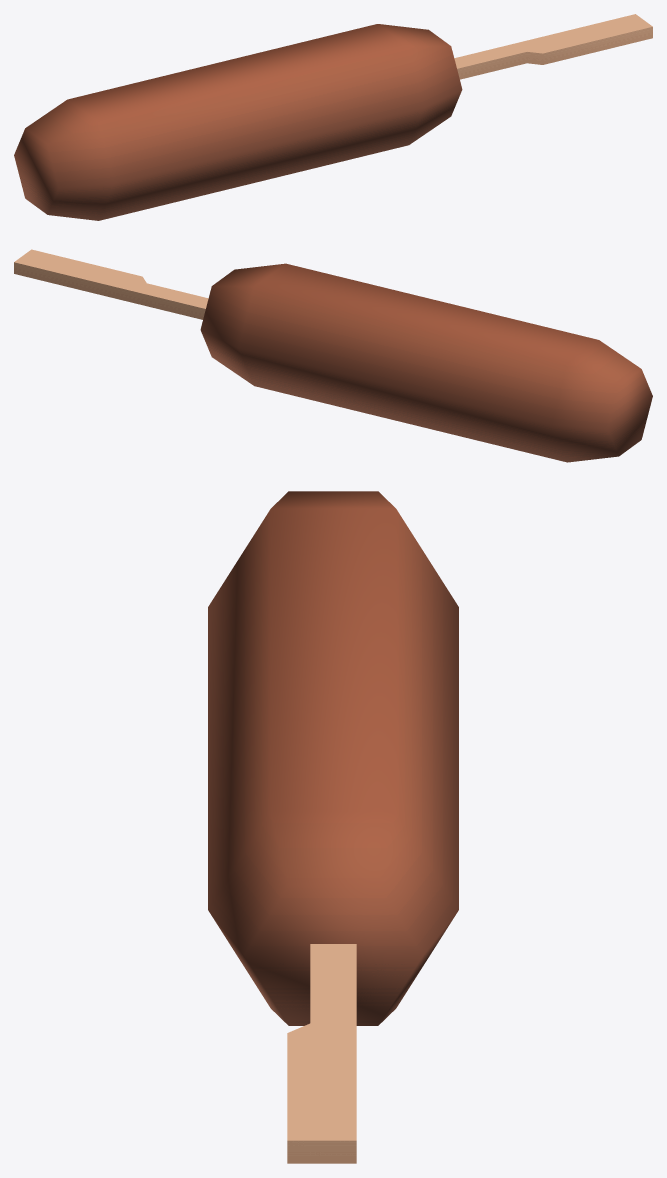
File: corn-dog.glb
The picture shows the model from 3 angles, top to bottom: view 1: azimuth 30°, elevation 25°; view 2: azimuth 150°, elevation 25°; view 3: azimuth 270°, elevation 25°; orthographic projection. The views are drawn at different scales.
Parts seen in each view (by area): view 1: dog, corn-dog; view 2: dog, corn-dog; view 3: dog, corn-dog.
Boxes of the visible parts, x1,y1,x2,y2 form: dog: [14, 24, 462, 220]; corn-dog: [454, 14, 652, 79]; dog: [200, 263, 652, 462]; corn-dog: [14, 249, 208, 319]; dog: [208, 491, 458, 1025]; corn-dog: [287, 944, 356, 1163].
Bounding box in the file's own units: 0.6044 × 0.094 × 0.1085.
Materials: 1 (1 with a texture image).
